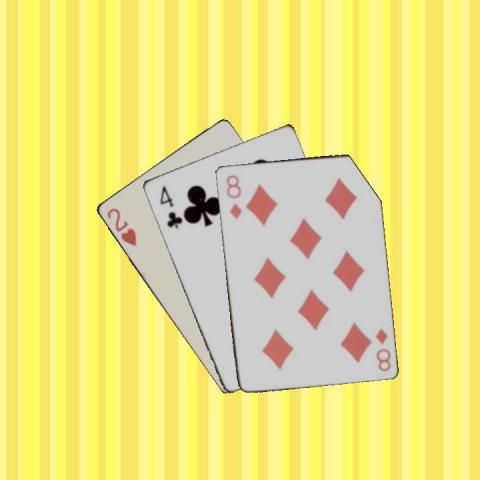2h: (104, 205, 138, 247)
4c: (156, 183, 183, 230)
8d: (223, 171, 243, 220), (372, 324, 392, 373)
